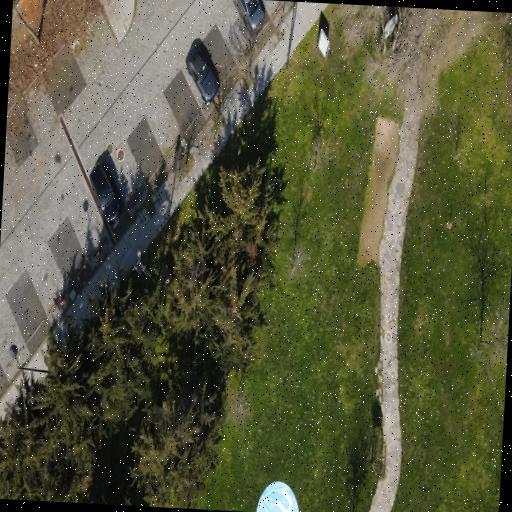car: (257, 481, 299, 512)
person: (185, 39, 218, 103), (89, 164, 118, 222), (238, 0, 263, 30)
